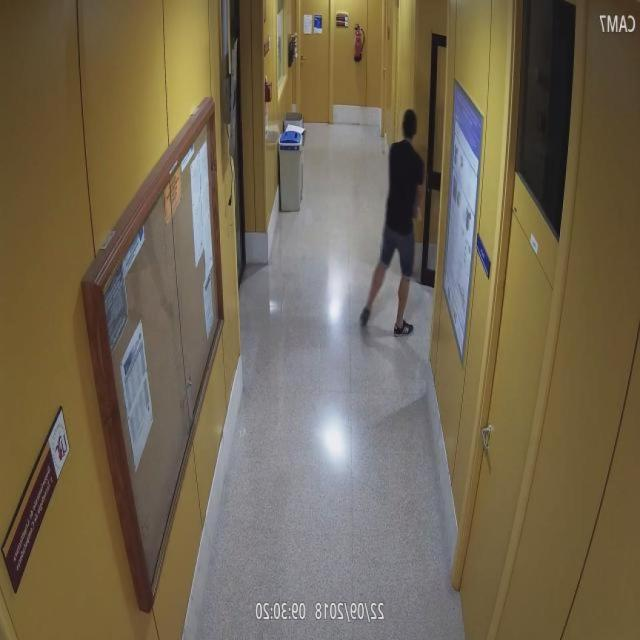pistol: (413, 202, 422, 222)
